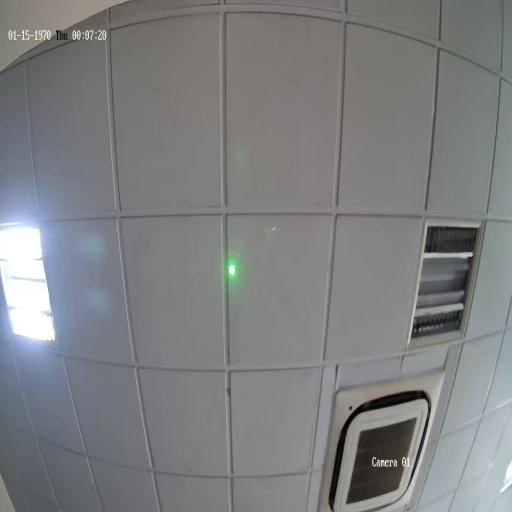laser: (228, 261, 235, 278)
